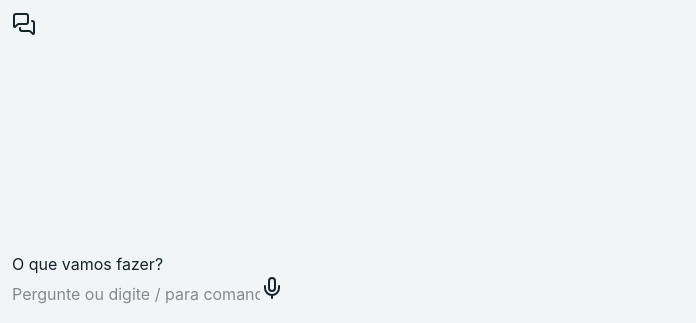
Test: a failed message can be retried, and the failed turn left no conversation behind
Step 1. Type "crie a tarefa" into the field named "Mensagem para a IA" → x=136, y=294, box x1=12 y1=282 x2=260 y2=306
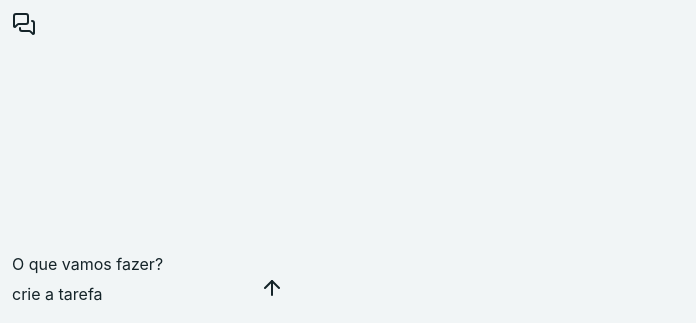
Step 2. Submit the form named "Mensagem para a IA", box x1=12 y1=276 x2=284 y2=306
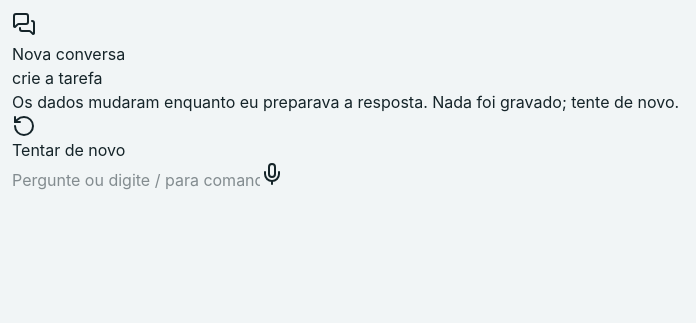
Check: the text "Os dados mudaram" is shown, box x1=12 y1=92 x2=679 y2=112
Step 3. Click the button "Tentar de novo" → x=69, y=138, box x1=12 y1=114 x2=125 y2=162
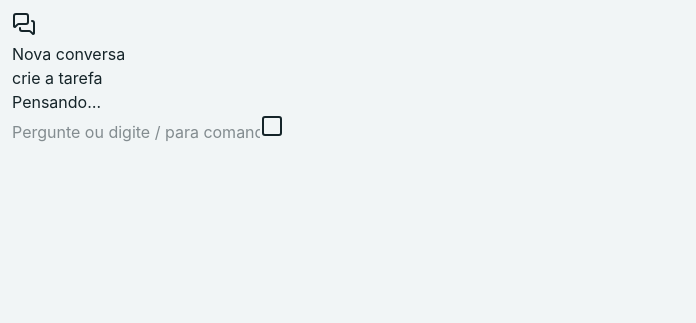
Check: the text "Os dados mudaram" is gone
Check: the text "crie a tarefa" is shown once, box x1=12 y1=68 x2=102 y2=88
